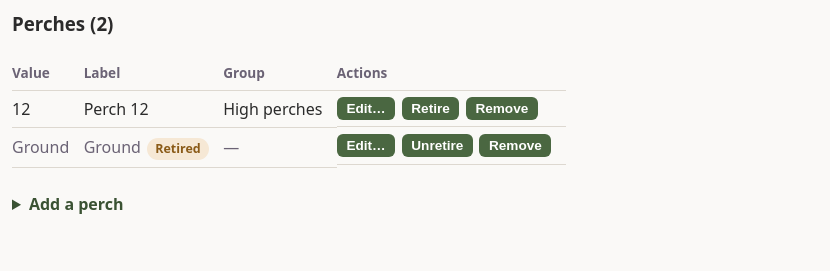
Scenario: PerchesSection › surfaces the API's refusal when removing a published perch
The width and height of the screenshot is (830, 271).
# In-app confirm (SM-1): arm, then confirm
Click the button "Remove" in the row of "Perch 12".
click(502, 109)  # box x1=466 y1=97 x2=538 y2=120
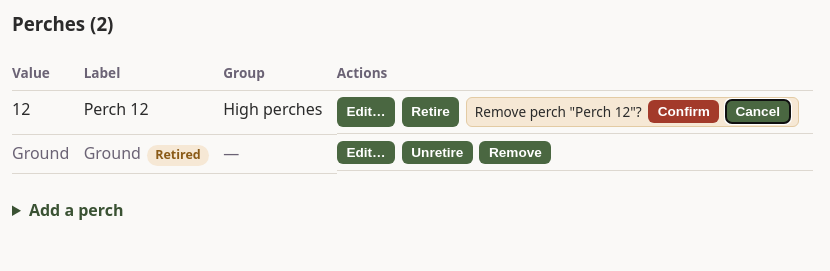
Check: the text "Remove perch \"Perch 12\"?" is shown, box x1=475 y1=102 x2=642 y2=121
Click the button "Confirm".
click(684, 112)  # box x1=648 y1=100 x2=719 y2=124
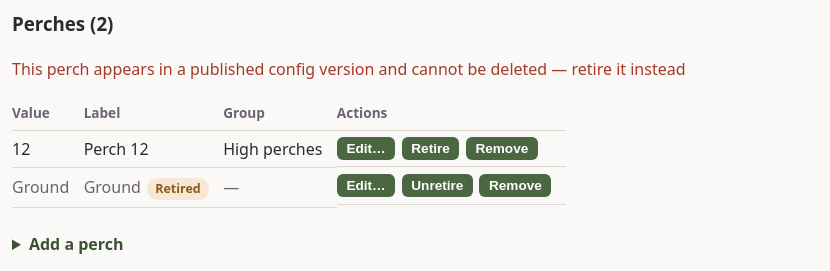
Check: the message shows "retire it instead", box x1=12 y1=58 x2=686 y2=80
